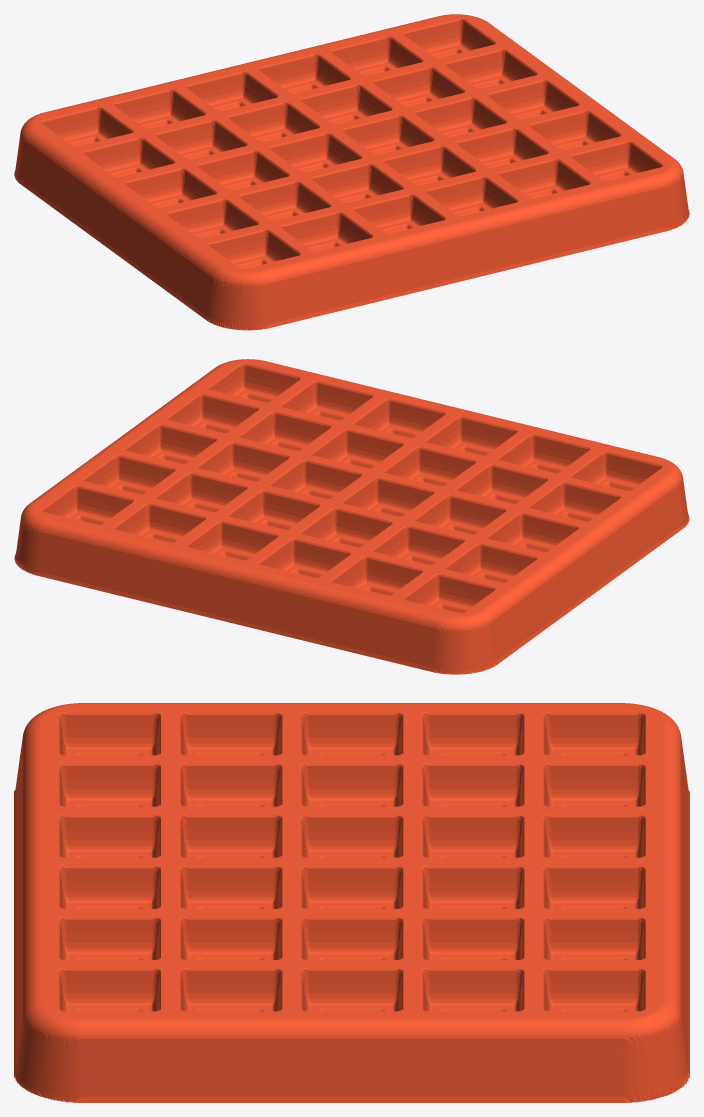
File: mold.glb
3 renders of one model, top to bottom at view 1: azimuth 30°, elevation 25°; view 2: azimuth 150°, elevation 25°; view 3: azimuth 270°, elevation 25°, orthographic. The views are drawn at different scales.
Visible parts, largest first — view 1: geometry_0; view 2: geometry_0; view 3: geometry_0.
Part boxes in pixels (left/top/right/bottom): geometry_0: left=14, top=14, right=689, bottom=330; geometry_0: left=14, top=359, right=689, bottom=674; geometry_0: left=14, top=703, right=689, bottom=1102.
Size of the model in its own units: 0.104 by 0.0105 by 0.0882.
